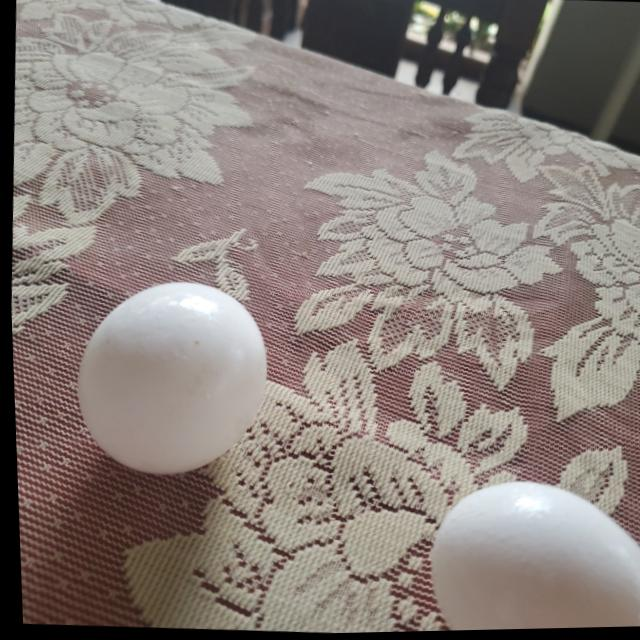egg: (69, 283, 270, 483), (421, 478, 640, 633)
